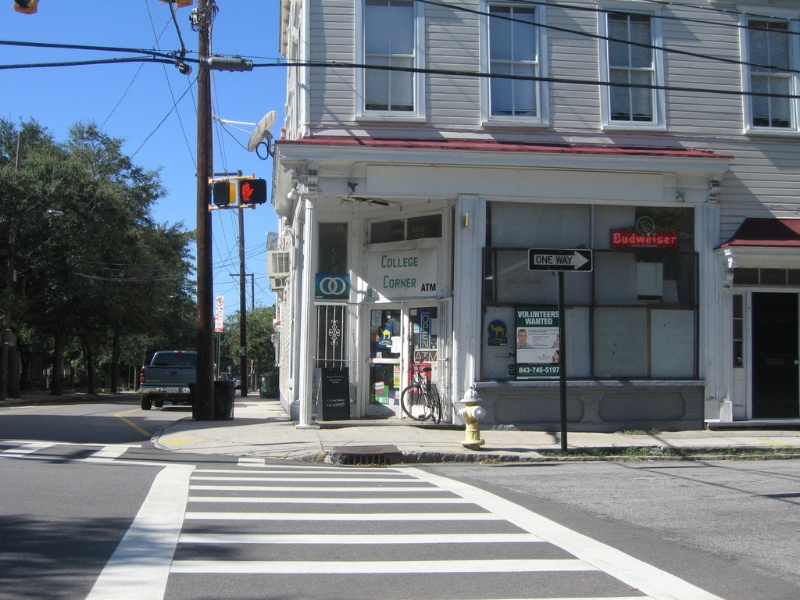red_light: (238, 177, 269, 203)
zebra_cross: (106, 455, 738, 599)
